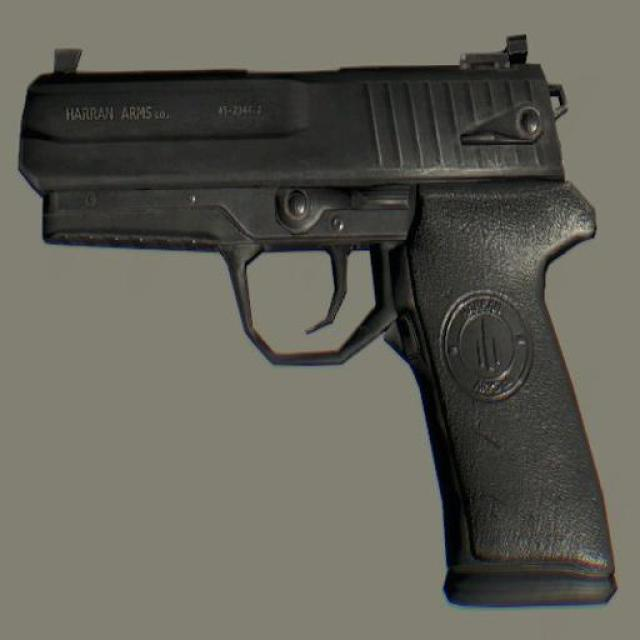pistol: (25, 30, 617, 612)
